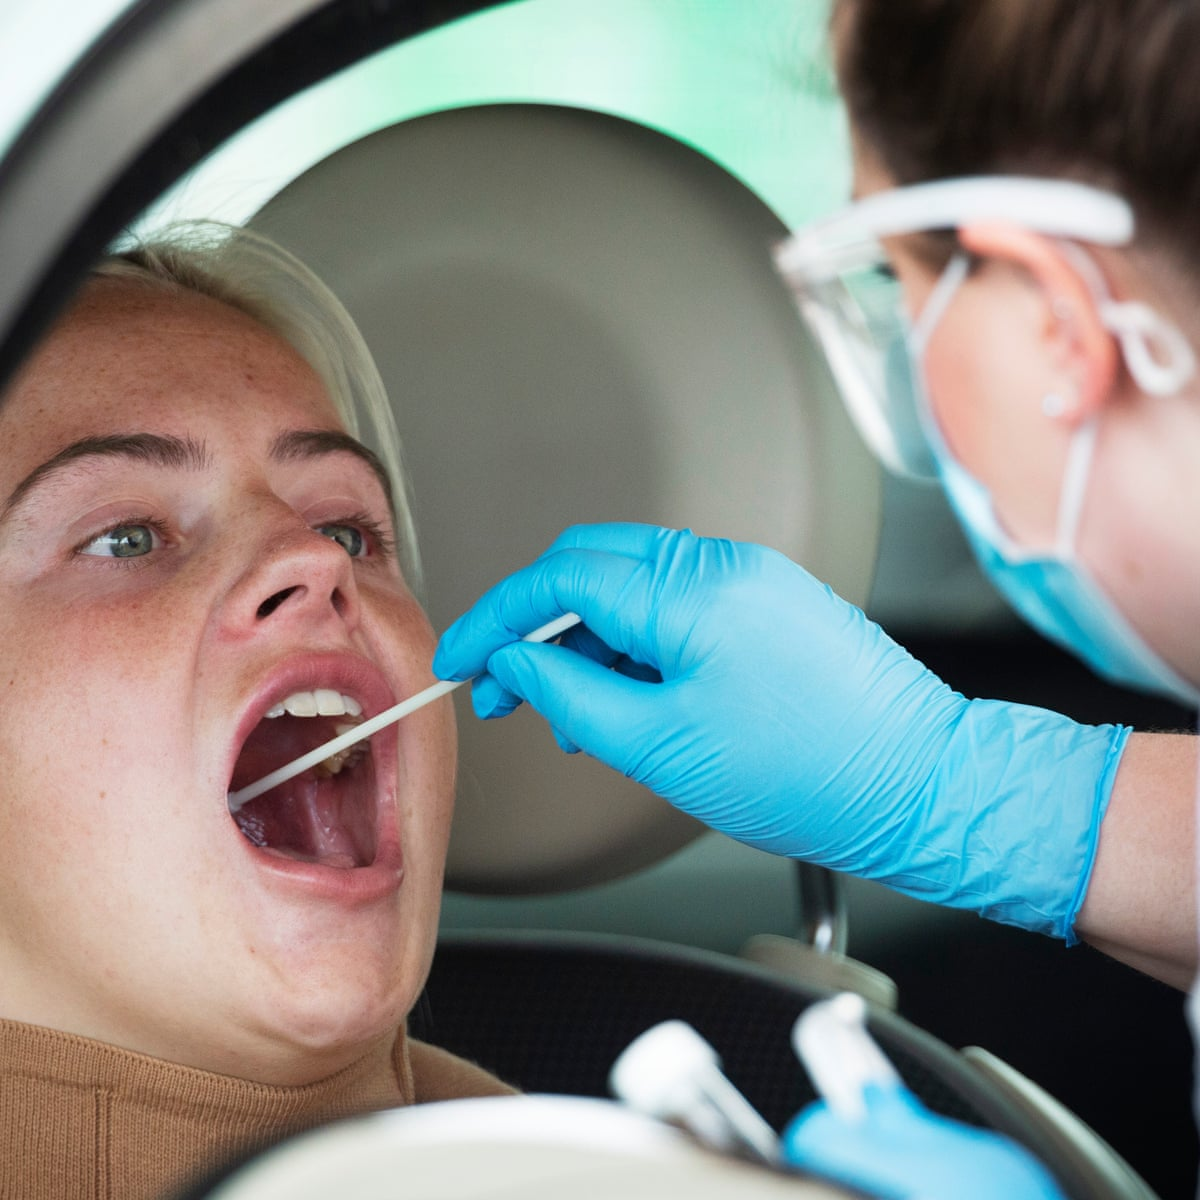Gloves: (425, 508, 1158, 986)
without_mask: (1, 398, 459, 1049)
